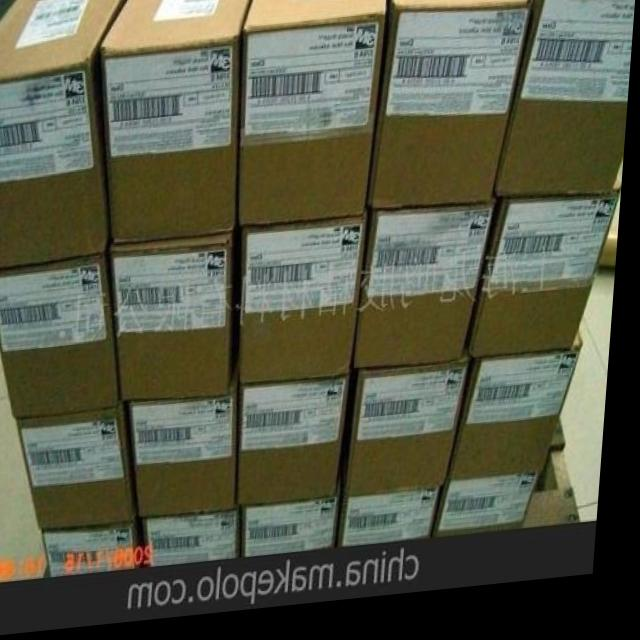box: (99, 0, 251, 247), (0, 0, 129, 270), (372, 0, 533, 216), (237, 0, 385, 231), (496, 0, 637, 206), (476, 190, 625, 366), (358, 205, 509, 377), (116, 230, 248, 406), (0, 247, 128, 421), (244, 216, 372, 388), (456, 343, 590, 492), (344, 366, 476, 503), (135, 370, 244, 521), (241, 377, 359, 512), (22, 405, 147, 531), (440, 488, 548, 549), (345, 497, 454, 556), (147, 512, 248, 573), (48, 520, 152, 579), (248, 504, 351, 562)
